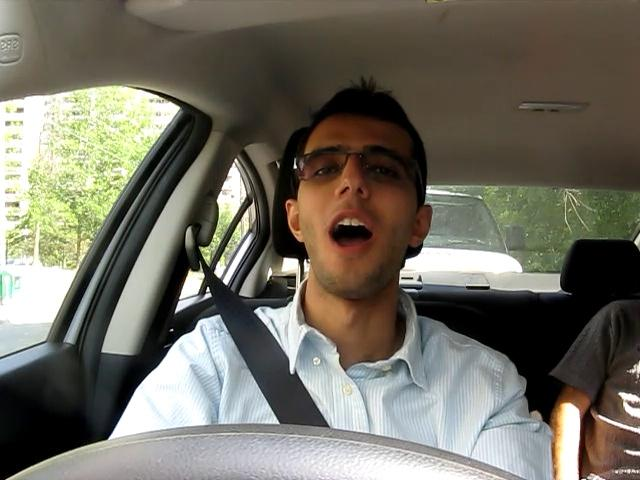close_eyeL: (302, 157, 351, 185)
close_eyeR: (358, 157, 415, 188)
yawn: (312, 211, 387, 255)
